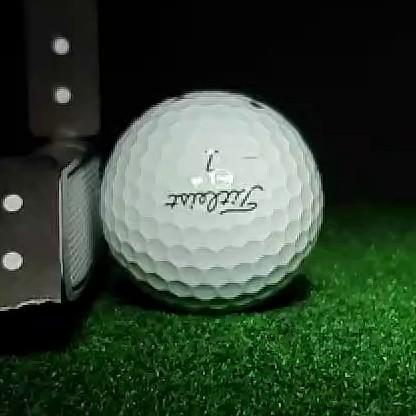golfball: (100, 91, 323, 311)
